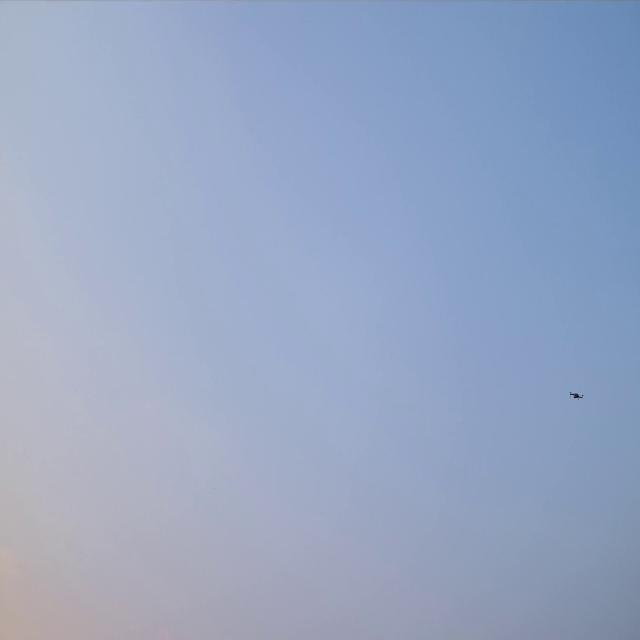UAV: (569, 391, 583, 401)
